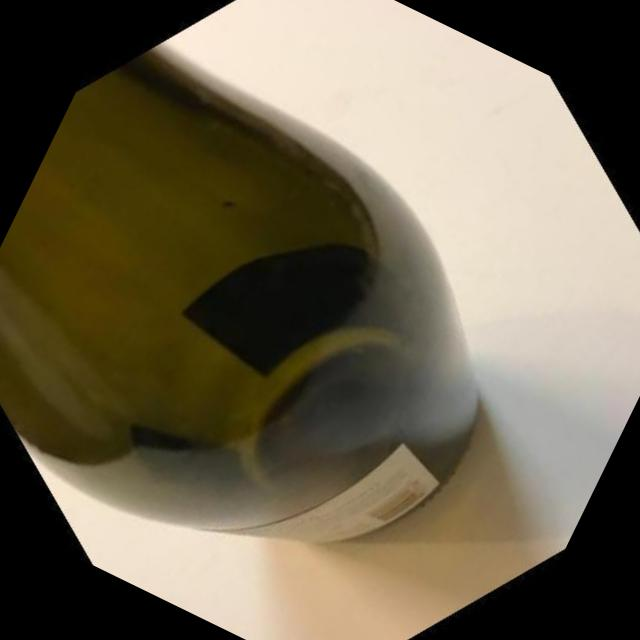BotolKaca: (0, 18, 569, 632)
